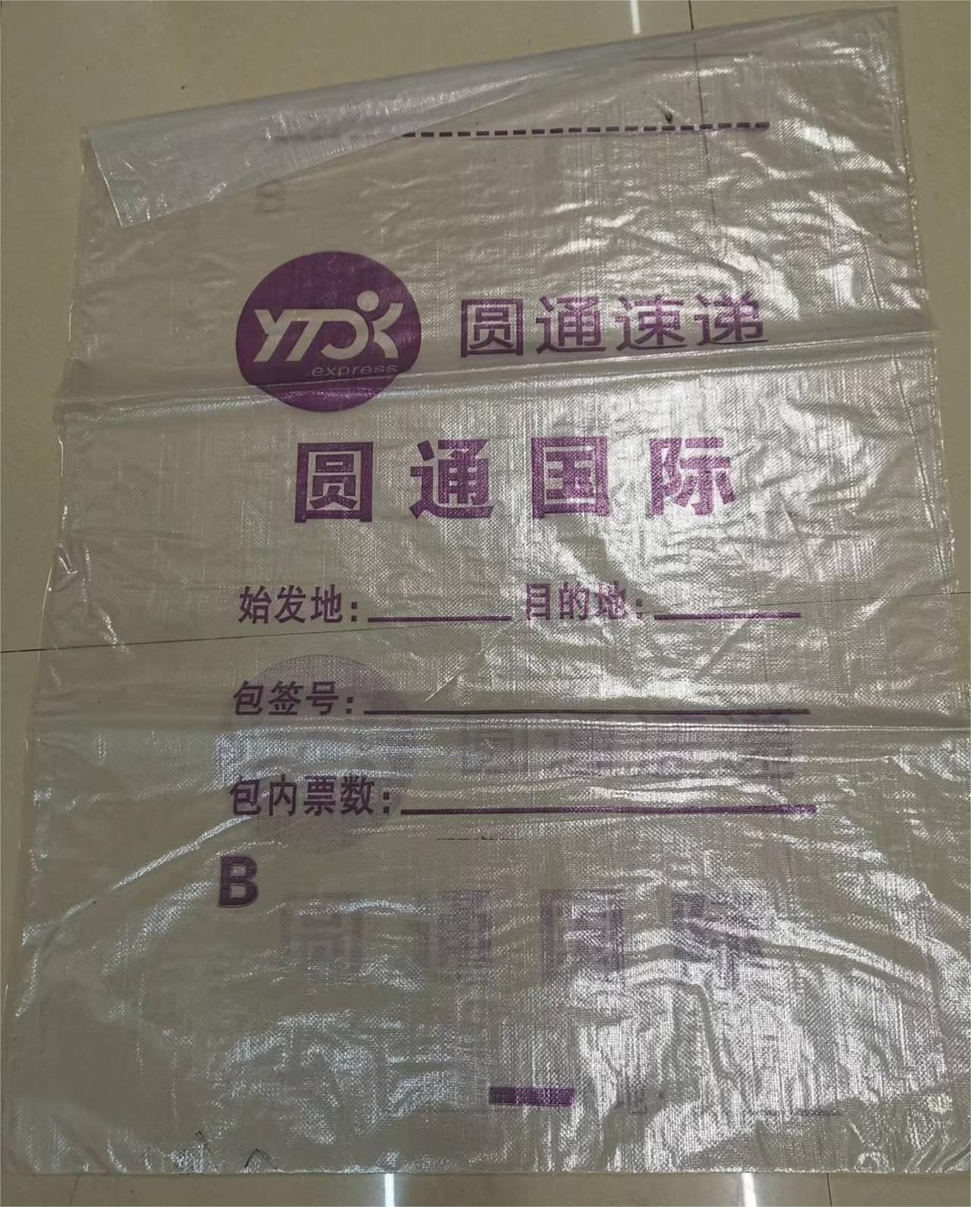塑料袋: (5, 12, 967, 1173)
